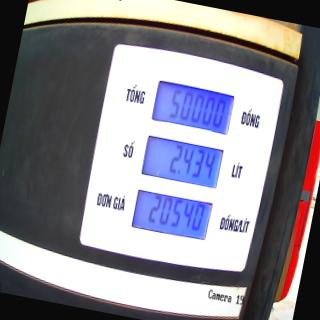screen: (126, 70, 238, 246)
